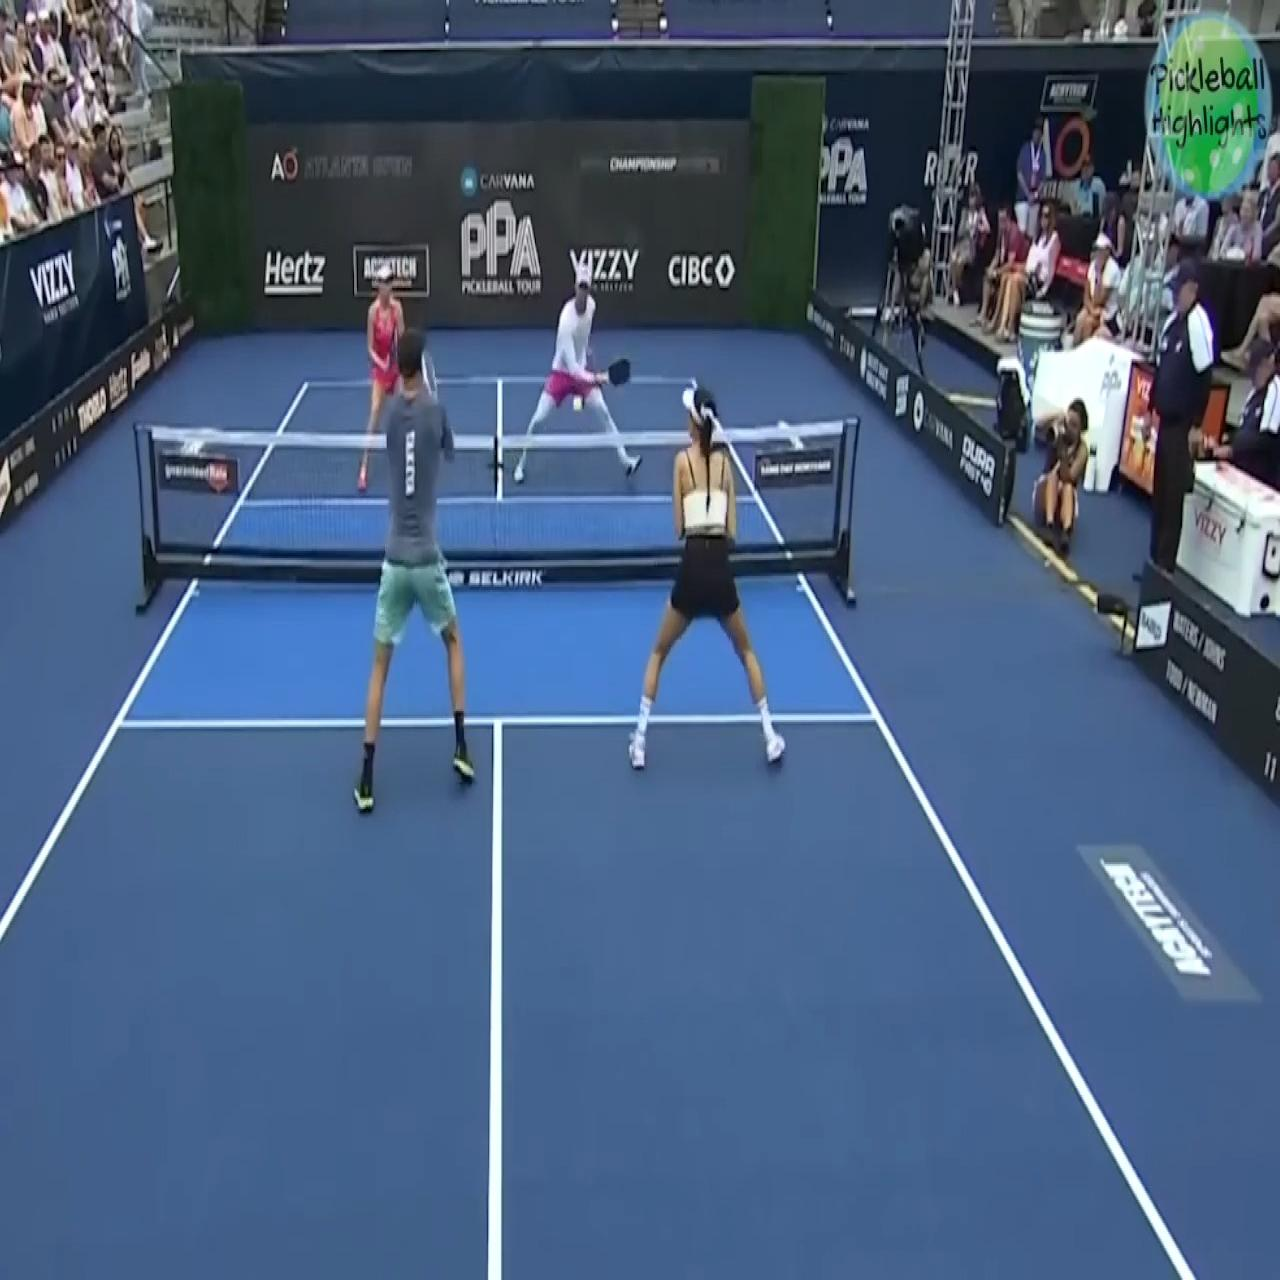Pickleball: (572, 388, 584, 418)
